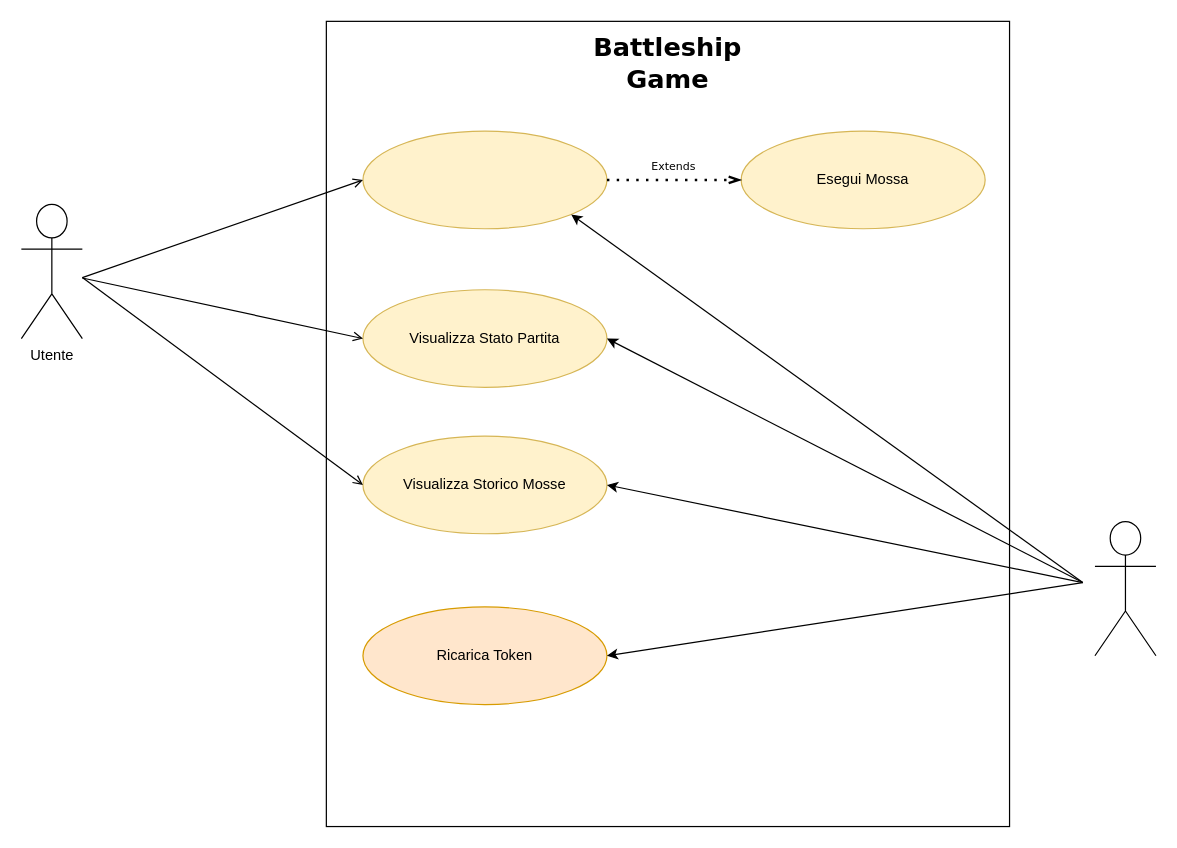
The diagram is 1177 pixels wide and 848 high, and some of its shapes have lost their labels. Here are the shapes that lost their labels. From the top down, the box of each, then its label:
(362, 130, 607, 229): Crea Partita
(1094, 520, 1156, 656): Admin
